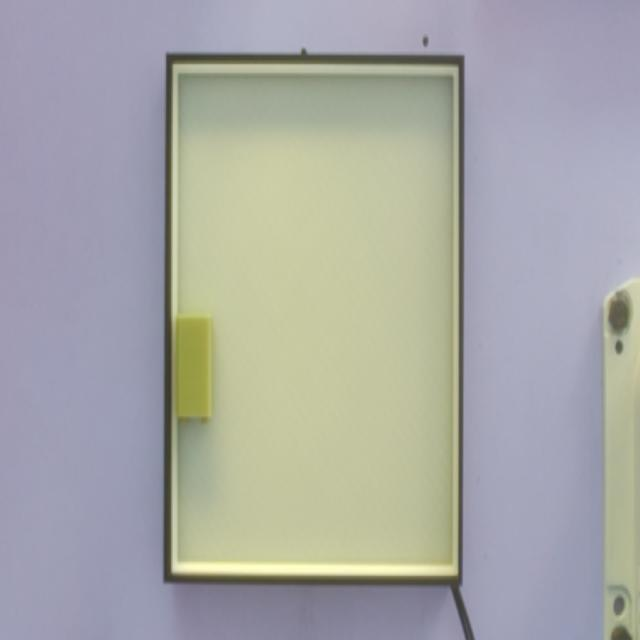bateria: (174, 316, 212, 428)
mesa: (164, 54, 465, 586)
